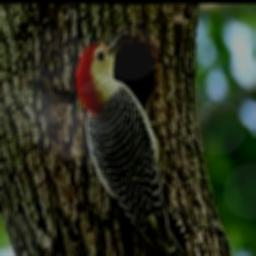Woodpecker: (75, 32, 200, 256)
